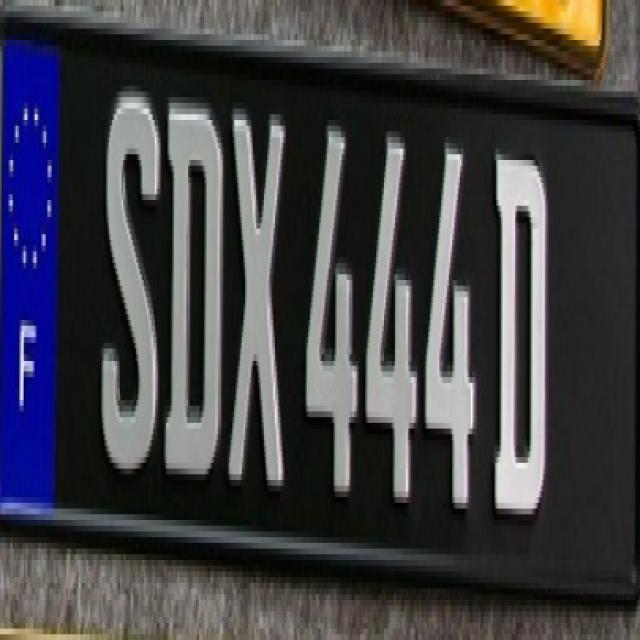4: (301, 92, 365, 514), (365, 90, 424, 527), (424, 90, 483, 518)
D: (162, 74, 227, 503), (494, 115, 554, 543)
S: (94, 64, 162, 499)
X: (226, 85, 293, 505)
